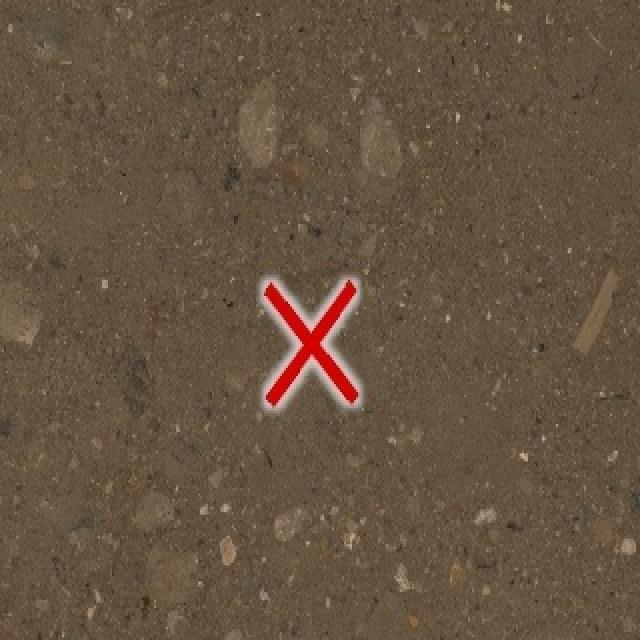x_marker: (263, 281, 357, 404)
